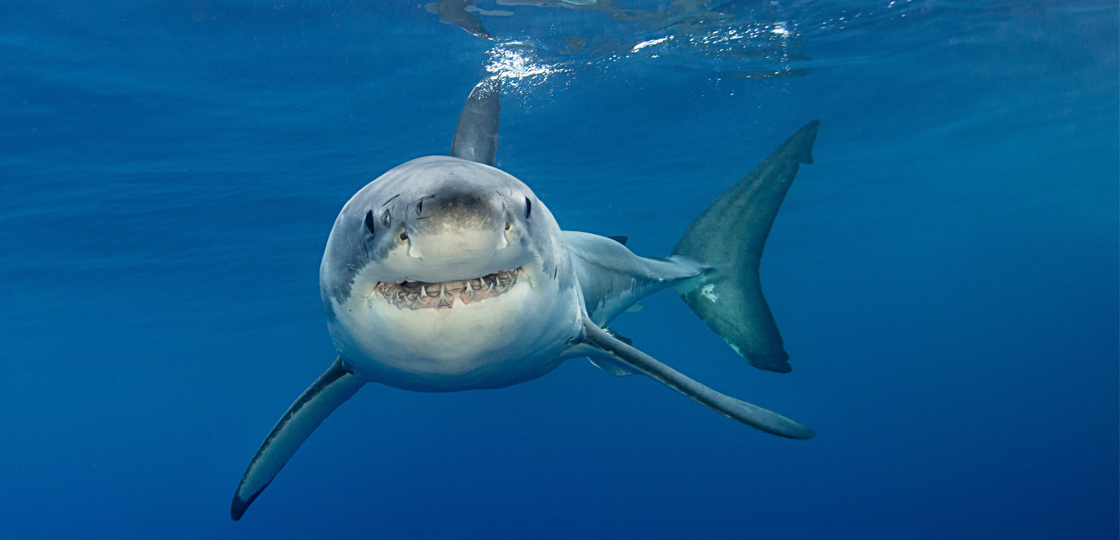Shark: (231, 77, 820, 522)
